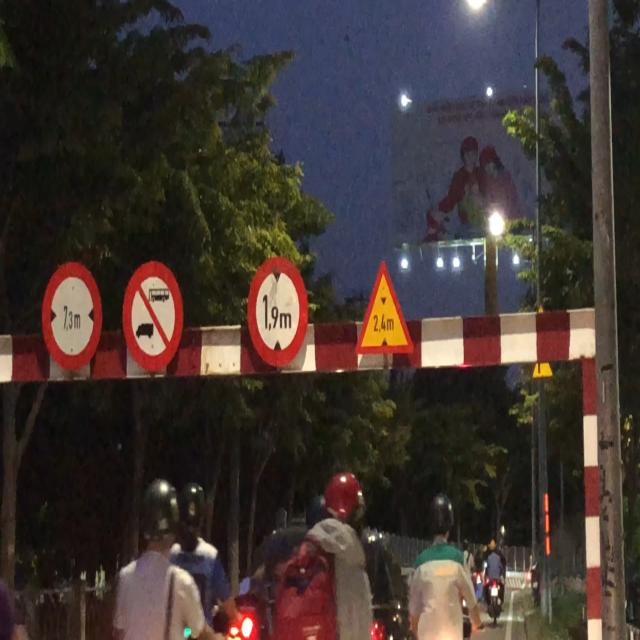Bien bao cam xe oto khach va xe oto tai: (120, 247, 182, 387)
Bien bao chieu cao tinh khong thuc te: (355, 256, 417, 366)
Bien bao han che chieu cao: (243, 244, 315, 378)
